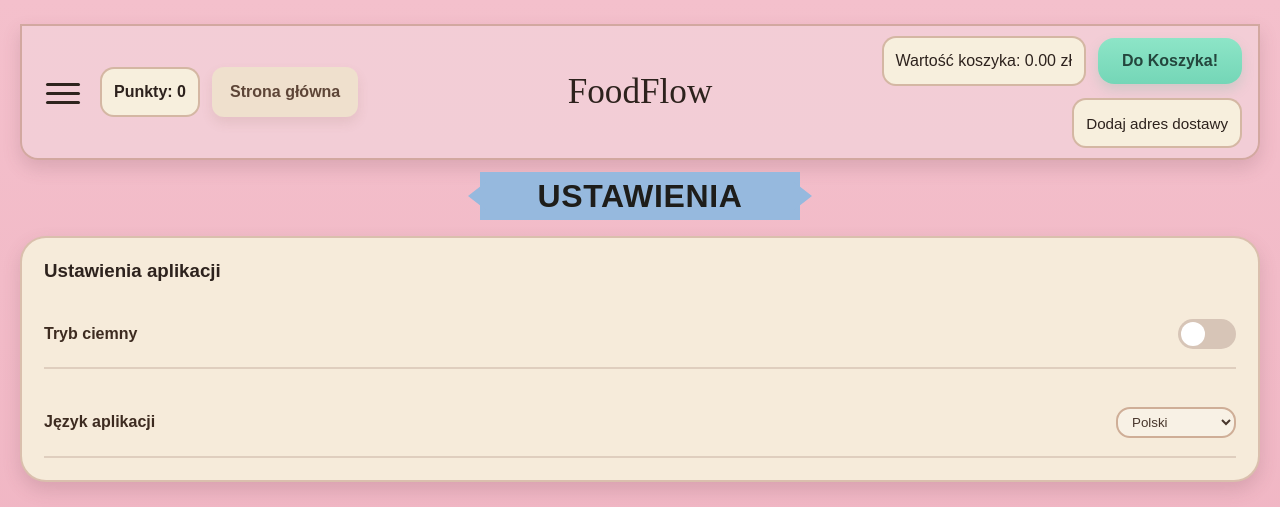
it: SettingsScreen Component › allows changing language to English and Polish
The width and height of the screenshot is (1280, 507).
Select "English" in the dropdown: (1176, 422) [1116, 407, 1236, 438]
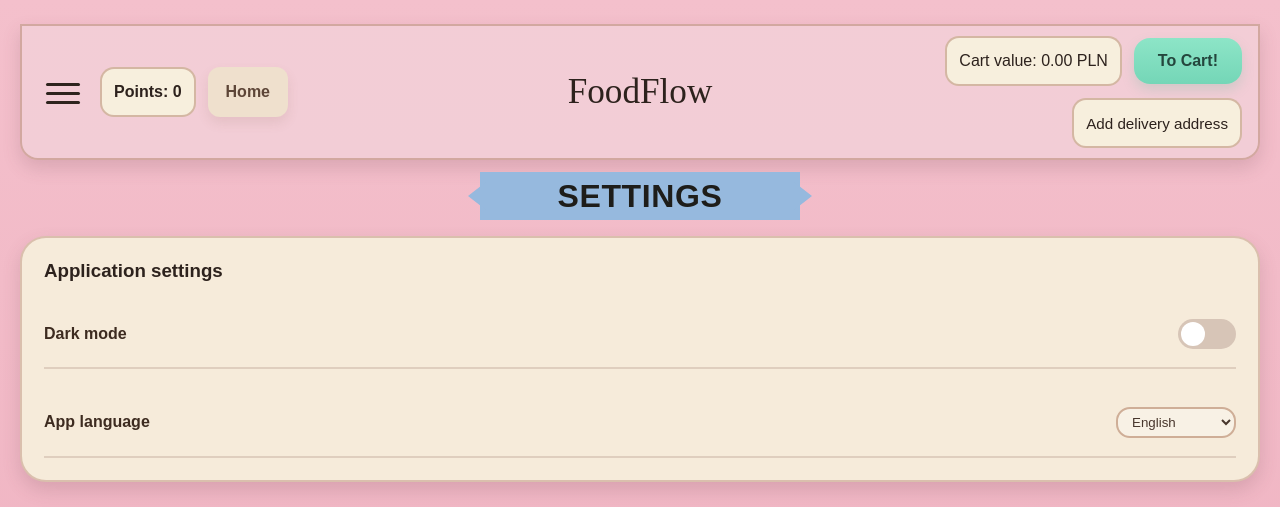
expect the text "SETTINGS" is shown: met, box [480, 172, 800, 220]
Select "Polish" in the dropdown: (1176, 422) [1116, 407, 1236, 438]
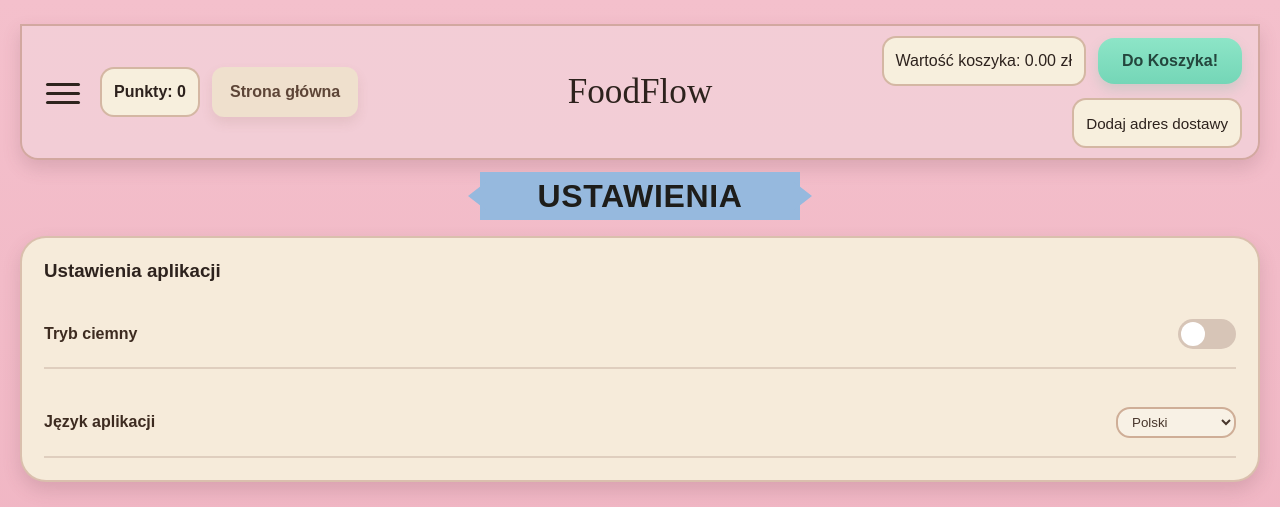
expect the text "USTAWIENIA" is shown: met, box [480, 172, 800, 220]
